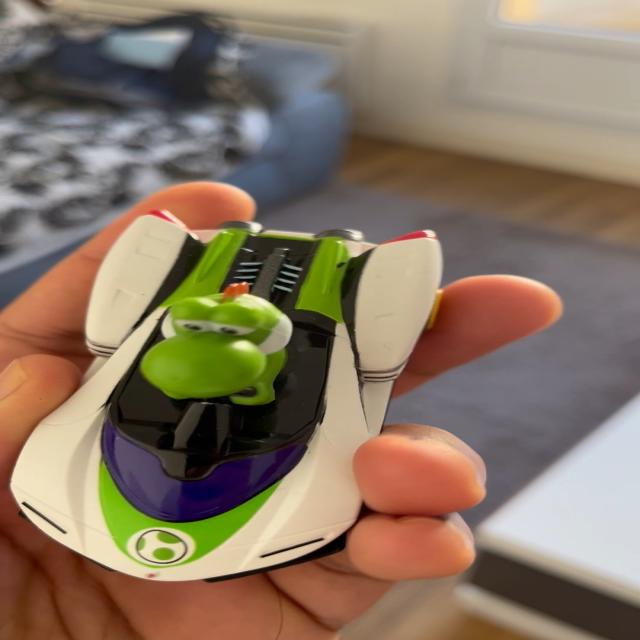yoshi: (4, 198, 470, 582)
